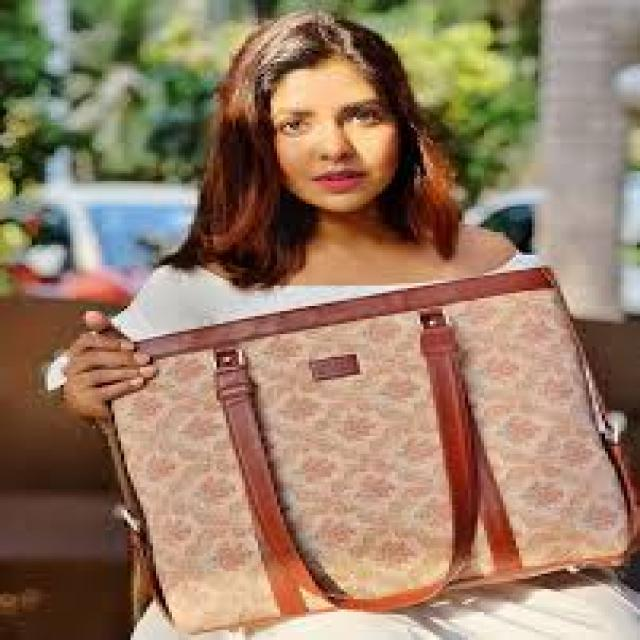handbag: (99, 263, 637, 635)
